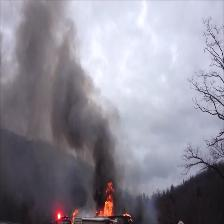fire: (105, 187, 115, 218)
smoke: (23, 2, 74, 131), (77, 77, 105, 185)
